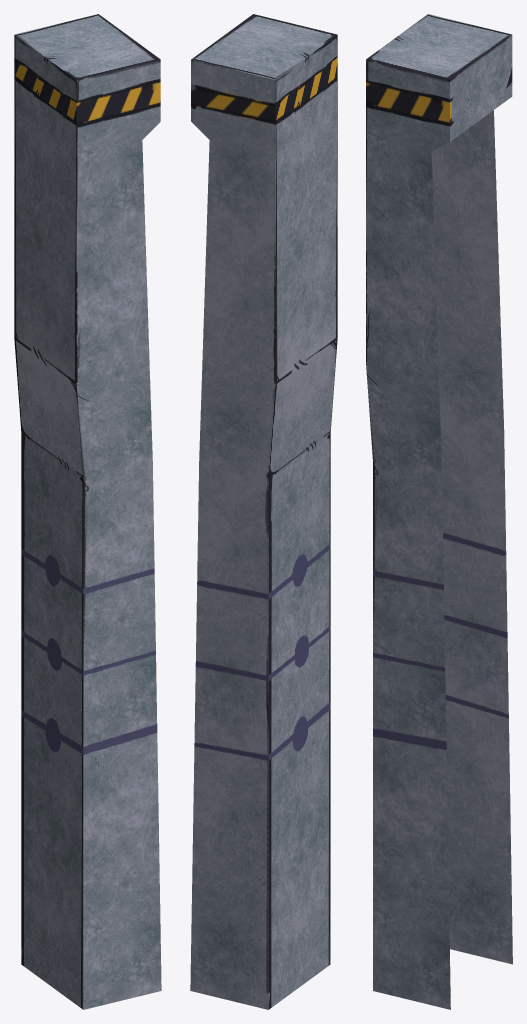
File: PillierLabo.fbx
The picture shows the model from 3 angles, left to right: view 1: azimuth 30°, elevation 25°; view 2: azimuth 150°, elevation 25°; view 3: azimuth 330°, elevation 25°; orthographic projection.
Parts seen in each view (by area): view 1: Cube.200; view 2: Cube.200; view 3: Cube.200.
Part boxes in pixels (x1,y1,x2,y2): Cube.200: (14,14,161,1009); Cube.200: (190,14,337,1009); Cube.200: (366,14,512,1009).
Bounding box in the file's own units: 153 × 1601 × 194.
